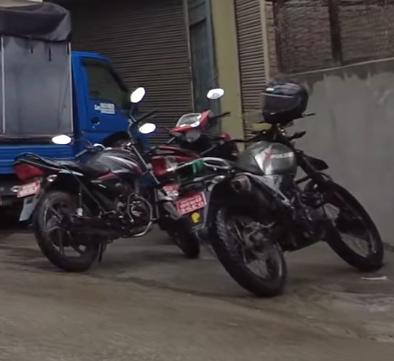bike: (168, 101, 390, 303), (12, 85, 159, 276)
